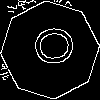O: (25, 25, 75, 68)
